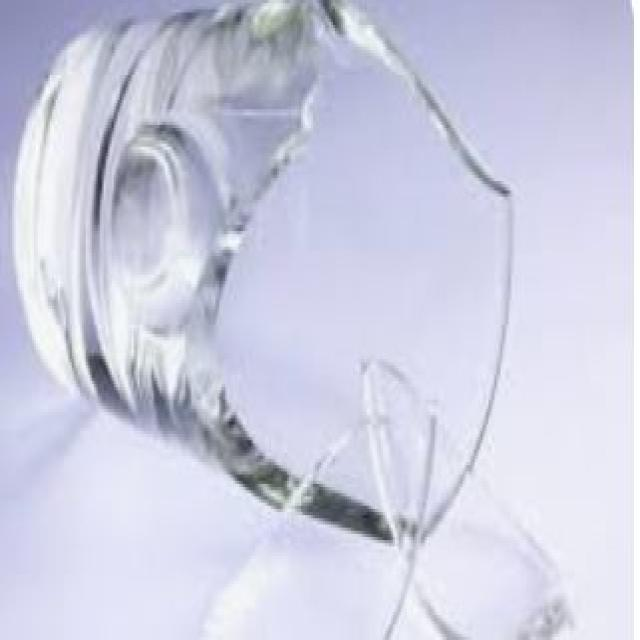electronic: (22, 12, 574, 640)
